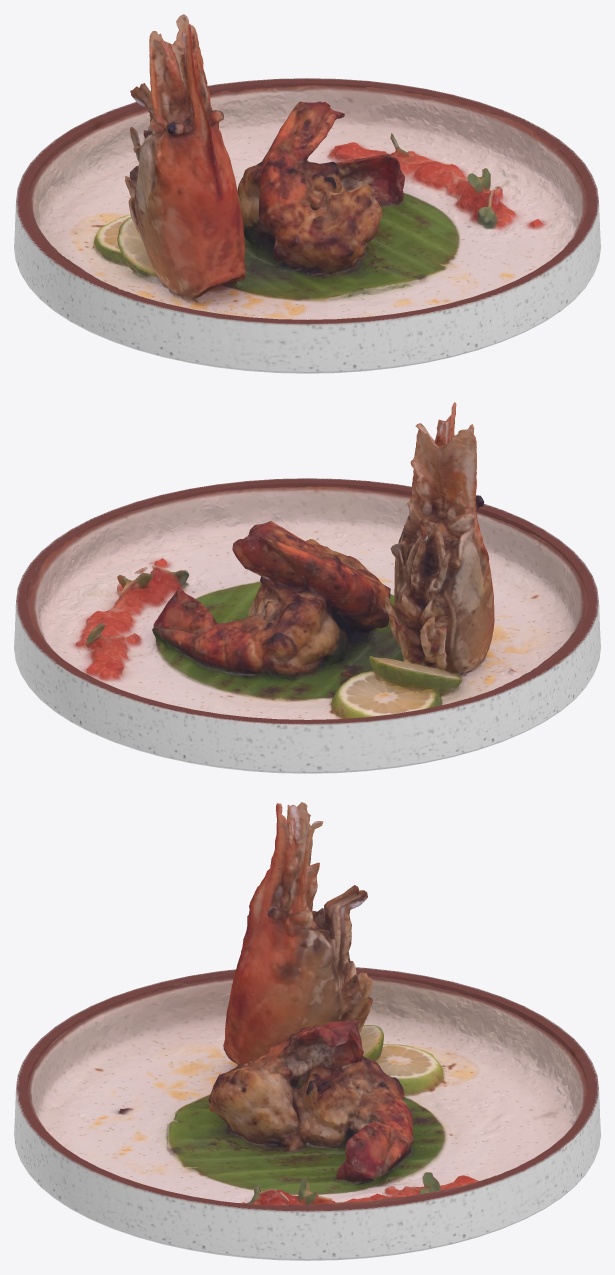
The model's file is Aamchur Golda.glb.
3 views of the same model, one above another, from view 1: azimuth 30°, elevation 25°; view 2: azimuth 150°, elevation 25°; view 3: azimuth 270°, elevation 25° (orthographic).
Visible parts, largest first — view 1: food7, pCylinder1.001; view 2: food7, pCylinder1.001; view 3: food7, pCylinder1.001.
Boxes of the visible parts, left/top/right/bottom form: food7: left=27, top=14, right=587, bottom=319; pCylinder1.001: left=14, top=78, right=600, bottom=373; food7: left=26, top=402, right=587, bottom=719; pCylinder1.001: left=14, top=478, right=600, bottom=773; food7: left=27, top=802, right=587, bottom=1207; pCylinder1.001: left=14, top=967, right=600, bottom=1260.
Size of the model in its own units: 0.146 by 0.0746 by 0.146.
Materials: 2 (2 with a texture image).
